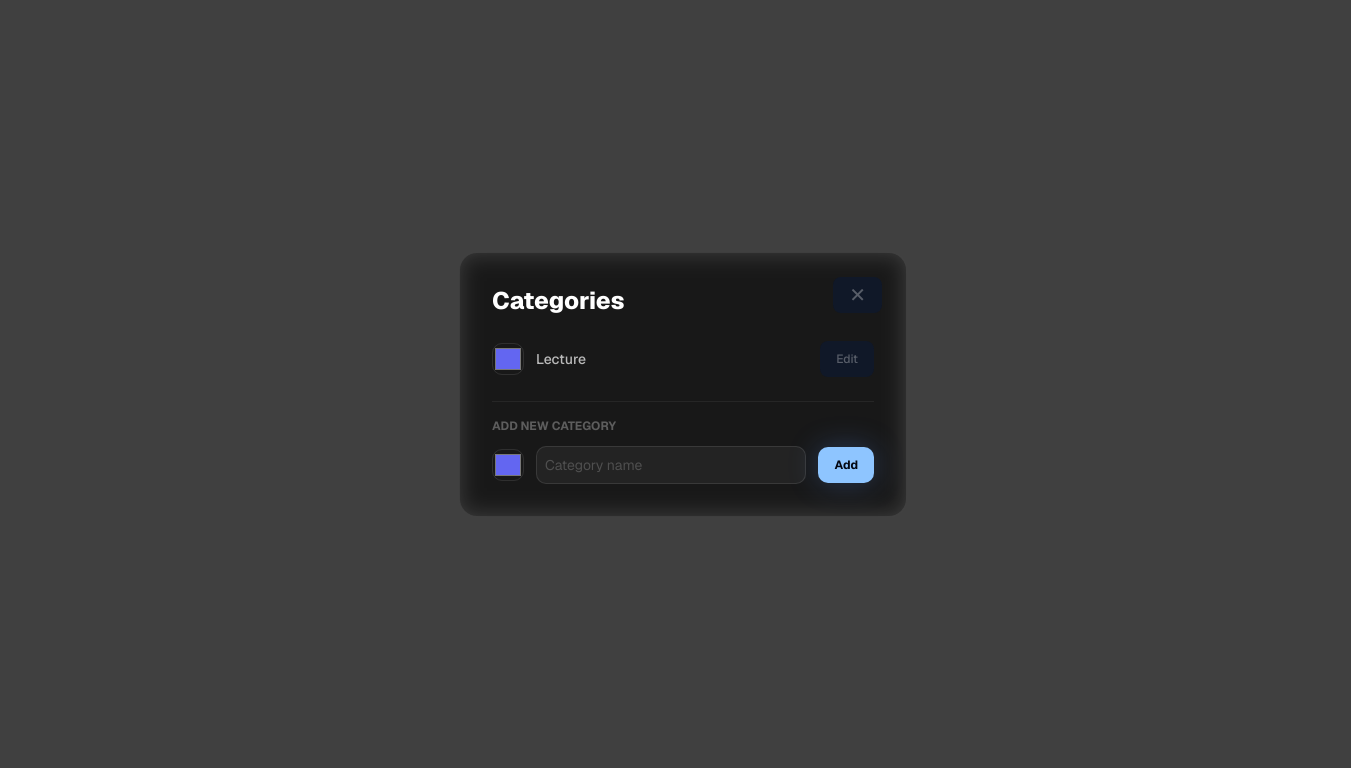
Test: CategoryManagerModal › CategoryRow › should switch to edit mode when Edit is clicked
This screenshot has width=1366, height=768.
Click the button "Edit" at (847, 358), box [820, 340, 874, 376]
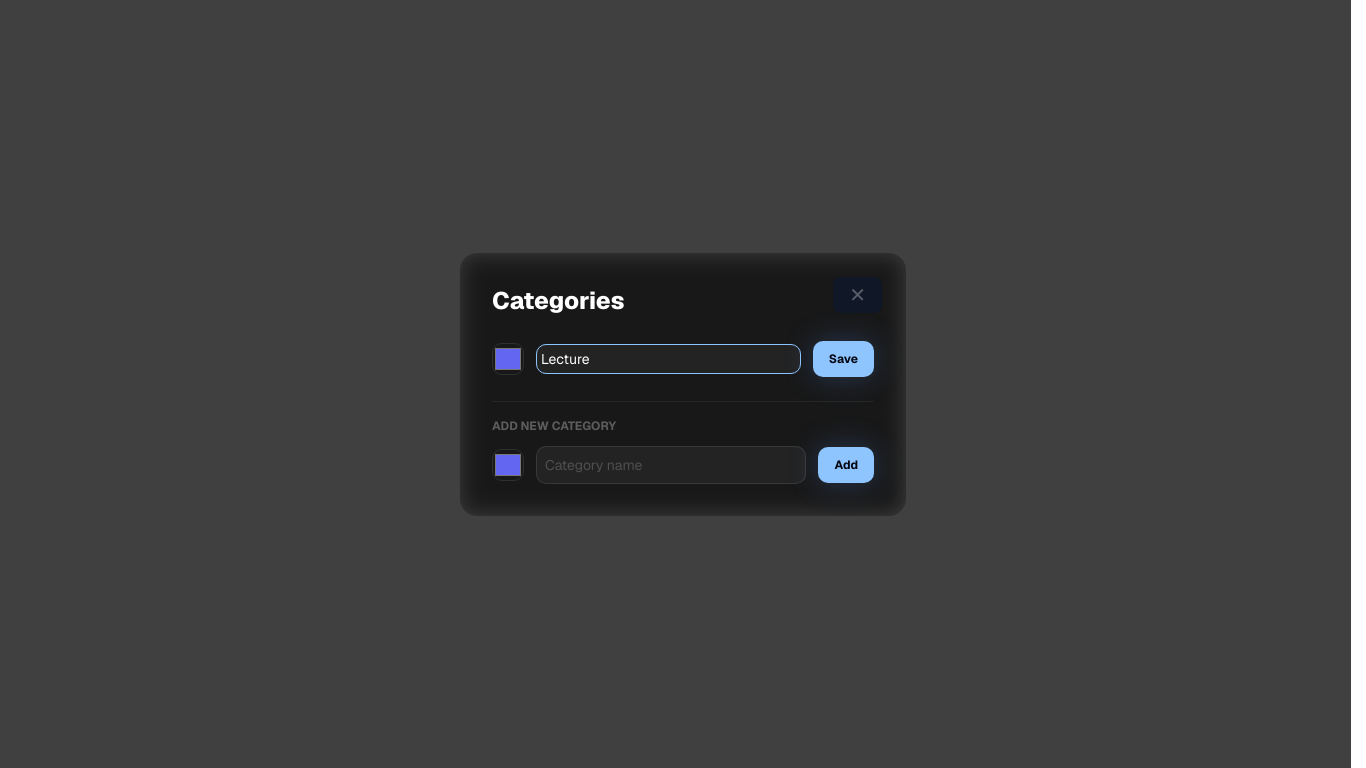
Check: the field showing "Lecture" is shown, box [536, 344, 801, 374]
Check: the button "Save" is shown, box [813, 340, 874, 376]
